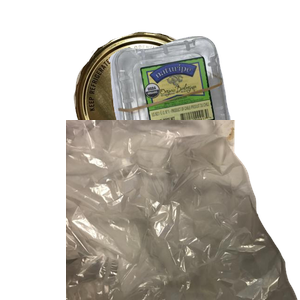glass: (88, 120, 252, 300)
metal: (71, 29, 276, 193)
plastic: (106, 34, 300, 183)
trash: (66, 120, 300, 300)
